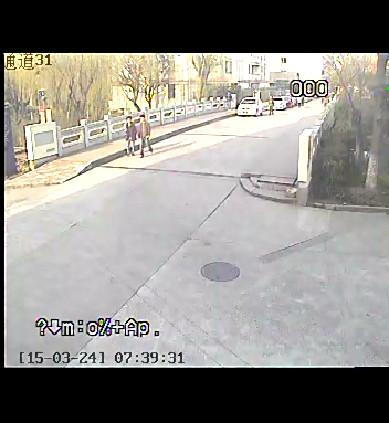person: (136, 105, 160, 153), (120, 116, 137, 153)
